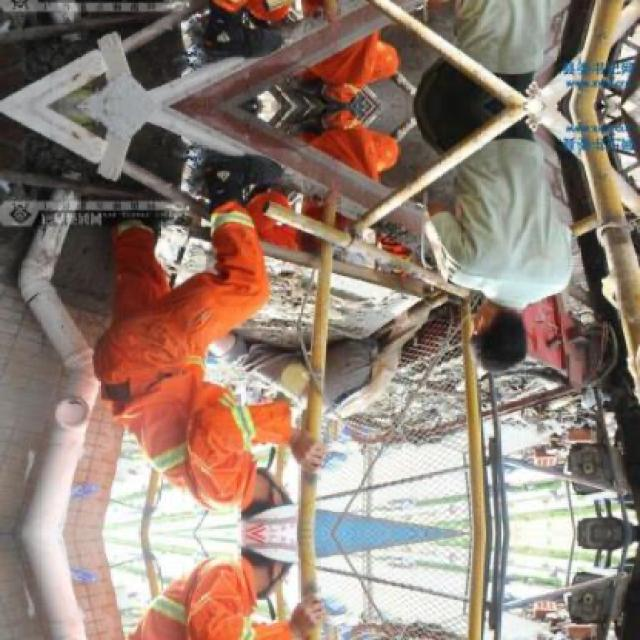con casco: (205, 486, 306, 556)
sin casco: (449, 304, 536, 372)
